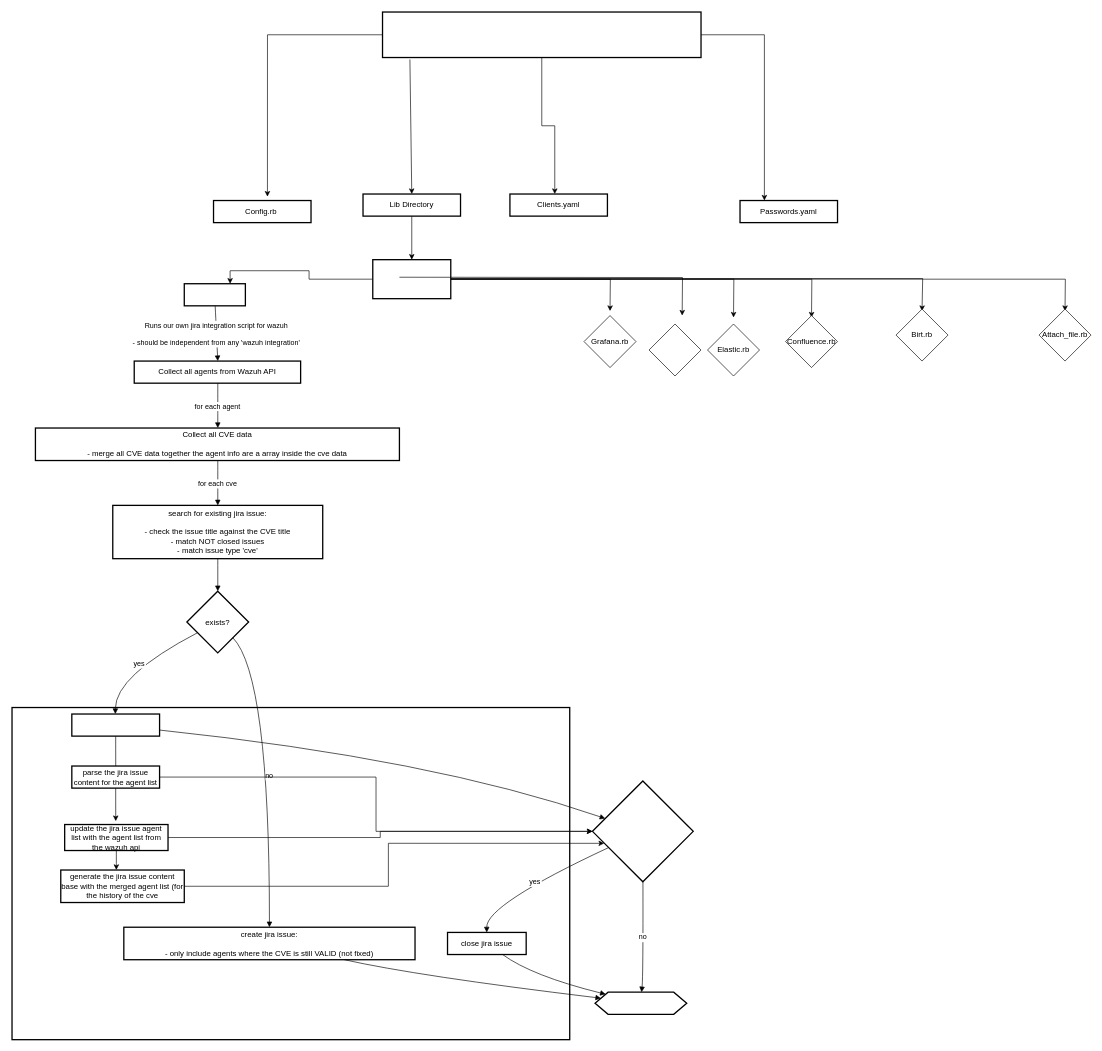
Some shapes in this 1102 by 1051 pixel diagram are drawn without their labels. The centre of each missing label's shape, as x and y in pixels:
all hosts fixed?: the point at 643,831
Entry point Apinator.rb: the point at 541,34
Forti.rb: the point at 674,349
Jira.rb: the point at 214,294
Job done - END: the point at 640,1003
specific functionality or integration: the point at 411,279
update jira issue: the point at 115,724
